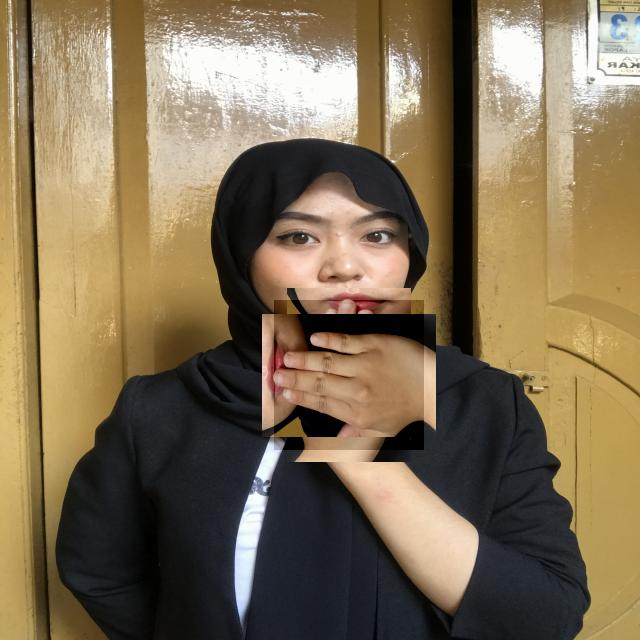ganteng: (274, 300, 424, 450)
